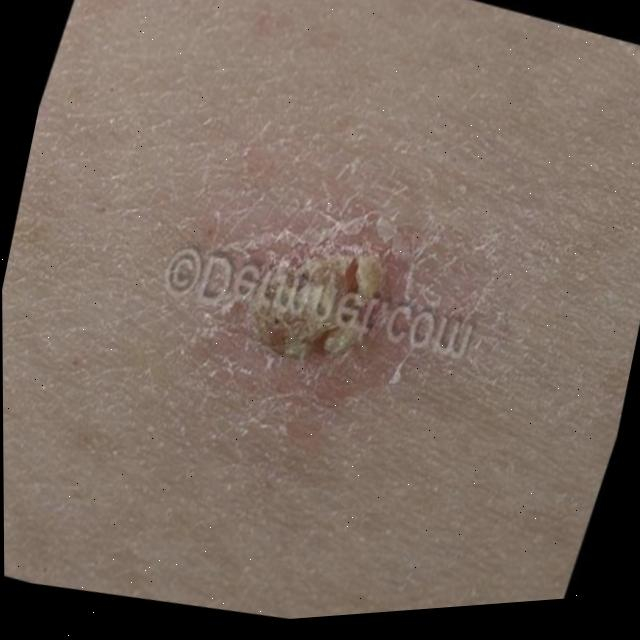Eczema: (240, 206, 398, 369)
